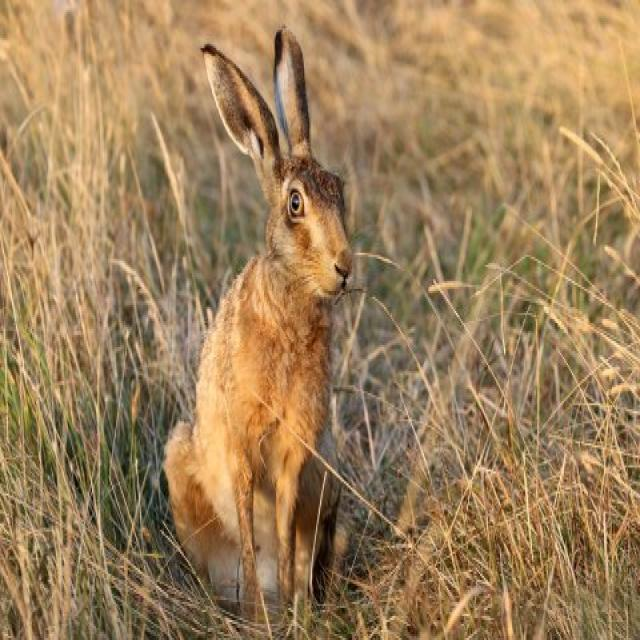Hare: (155, 30, 357, 640)
